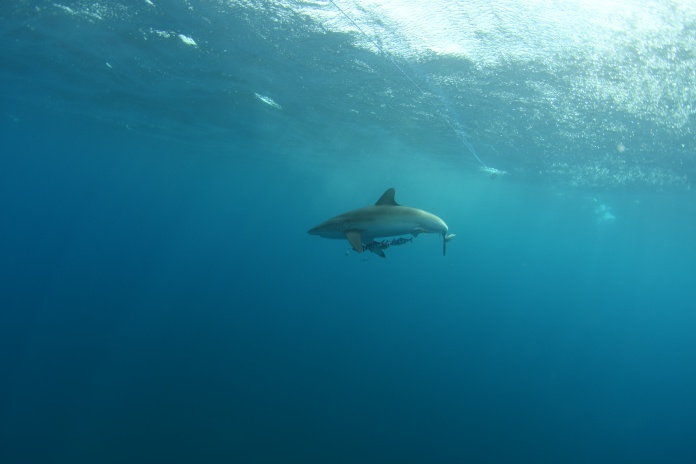Sedoso: (297, 184, 468, 259)
